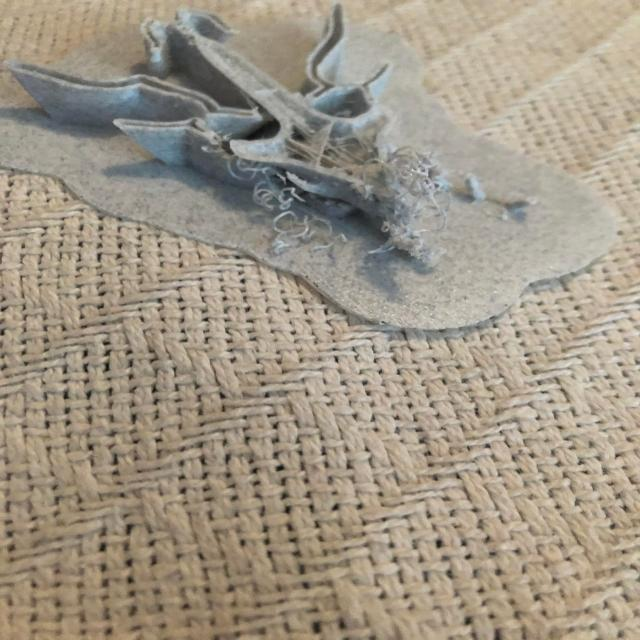Spaghetti: (227, 134, 467, 266)
